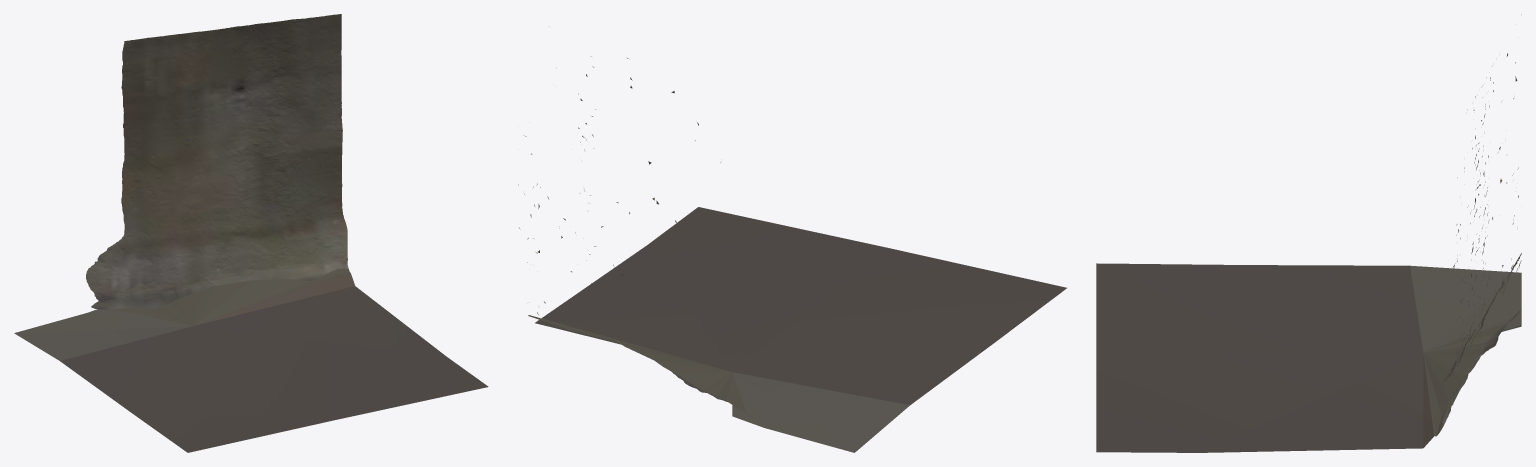
3 renders of one model, left to right at view 1: azimuth 30°, elevation 25°; view 2: azimuth 150°, elevation 25°; view 3: azimuth 270°, elevation 25°, orthographic. The views are drawn at different scales.
Size of the model in its own units: 0.983 by 0.8291 by 0.983.
Materials: 1 (1 with a texture image).
